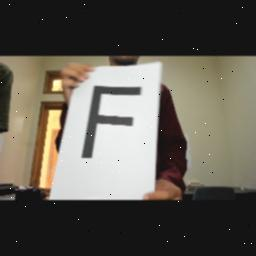f: (78, 84, 152, 166)
